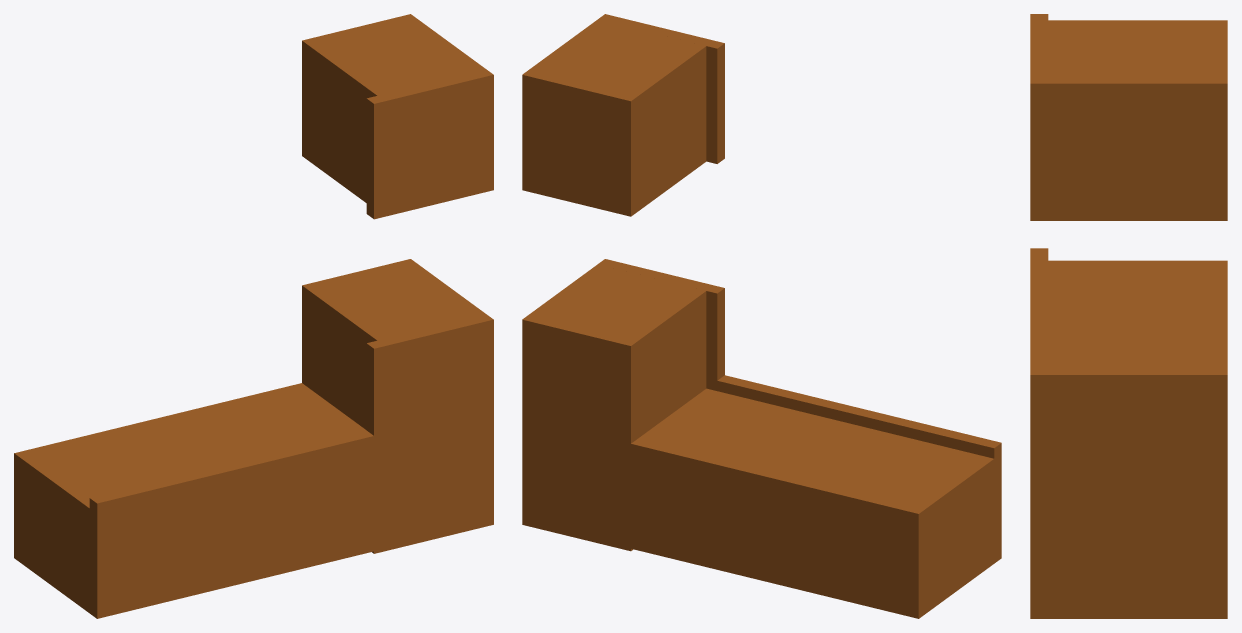
File: Counters.fbx
The picture shows the model from 3 angles, left to right: view 1: azimuth 30°, elevation 25°; view 2: azimuth 150°, elevation 25°; view 3: azimuth 270°, elevation 25°; orthographic projection. The views are drawn at different scales.
Visible parts, largest first — view 1: 9D29800A4272071D29E84DAFBA010E2E (2), 9D29800A4272071D29E84DAFBA010E2E (1), 9D29800A4272071D29E84DAFBA010E2E; view 2: 9D29800A4272071D29E84DAFBA010E2E (2), 9D29800A4272071D29E84DAFBA010E2E (1), 9D29800A4272071D29E84DAFBA010E2E; view 3: 9D29800A4272071D29E84DAFBA010E2E (1), 9D29800A4272071D29E84DAFBA010E2E, 9D29800A4272071D29E84DAFBA010E2E (2).
Boxes of the visible parts, x1,y1,x2,y2 form: 9D29800A4272071D29E84DAFBA010E2E (2): [14, 383, 399, 618]; 9D29800A4272071D29E84DAFBA010E2E (1): [302, 259, 493, 553]; 9D29800A4272071D29E84DAFBA010E2E: [302, 14, 493, 219]; 9D29800A4272071D29E84DAFBA010E2E (2): [616, 375, 1001, 618]; 9D29800A4272071D29E84DAFBA010E2E (1): [522, 259, 724, 551]; 9D29800A4272071D29E84DAFBA010E2E: [522, 14, 724, 216]; 9D29800A4272071D29E84DAFBA010E2E (1): [1030, 305, 1227, 618]; 9D29800A4272071D29E84DAFBA010E2E: [1030, 14, 1227, 220]; 9D29800A4272071D29E84DAFBA010E2E (2): [1030, 248, 1227, 311].
Bounding box in the file's own units: 251 × 272 × 90.88.
